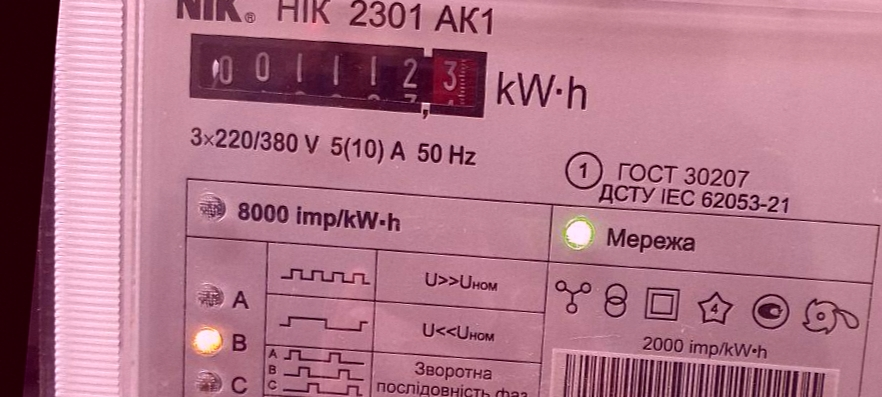0: (249, 47, 275, 87), (213, 50, 238, 87)
1: (288, 47, 310, 87), (326, 50, 344, 89), (364, 51, 382, 90)
2: (397, 55, 423, 93)
3: (438, 57, 460, 94)
screen: (177, 20, 497, 130)
